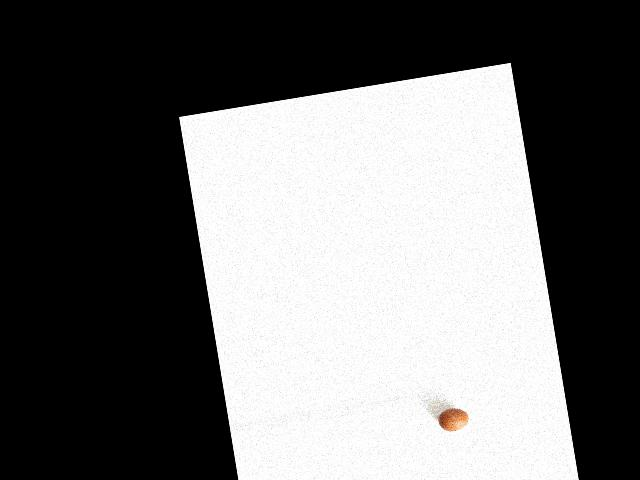egg: (436, 406, 470, 433)
